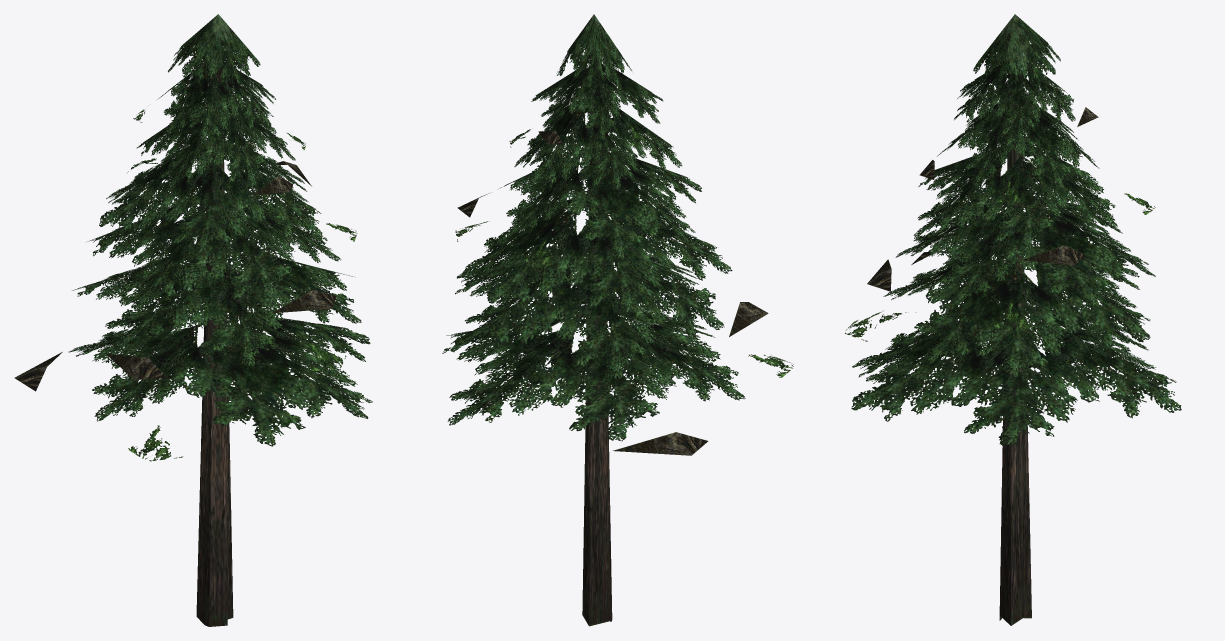
The model's file is tree_pine_03.dae.
The picture shows the model from 3 angles, left to right: view 1: azimuth 30°, elevation 25°; view 2: azimuth 150°, elevation 25°; view 3: azimuth 270°, elevation 25°; orthographic projection.
Visible parts, largest first — view 1: Pine_03; view 2: Pine_03; view 3: Pine_03.
Part boxes in pixels (x1,y1,x2,y2): Pine_03: [14, 14, 372, 626]; Pine_03: [442, 14, 793, 626]; Pine_03: [845, 14, 1181, 625].
Size of the model in its own units: 14.08 by 14.48 by 25.13.
